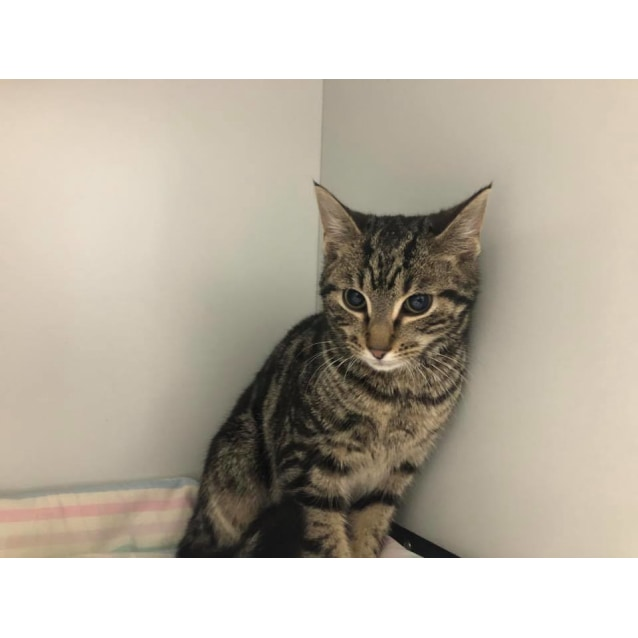cat: (167, 157, 507, 564)
